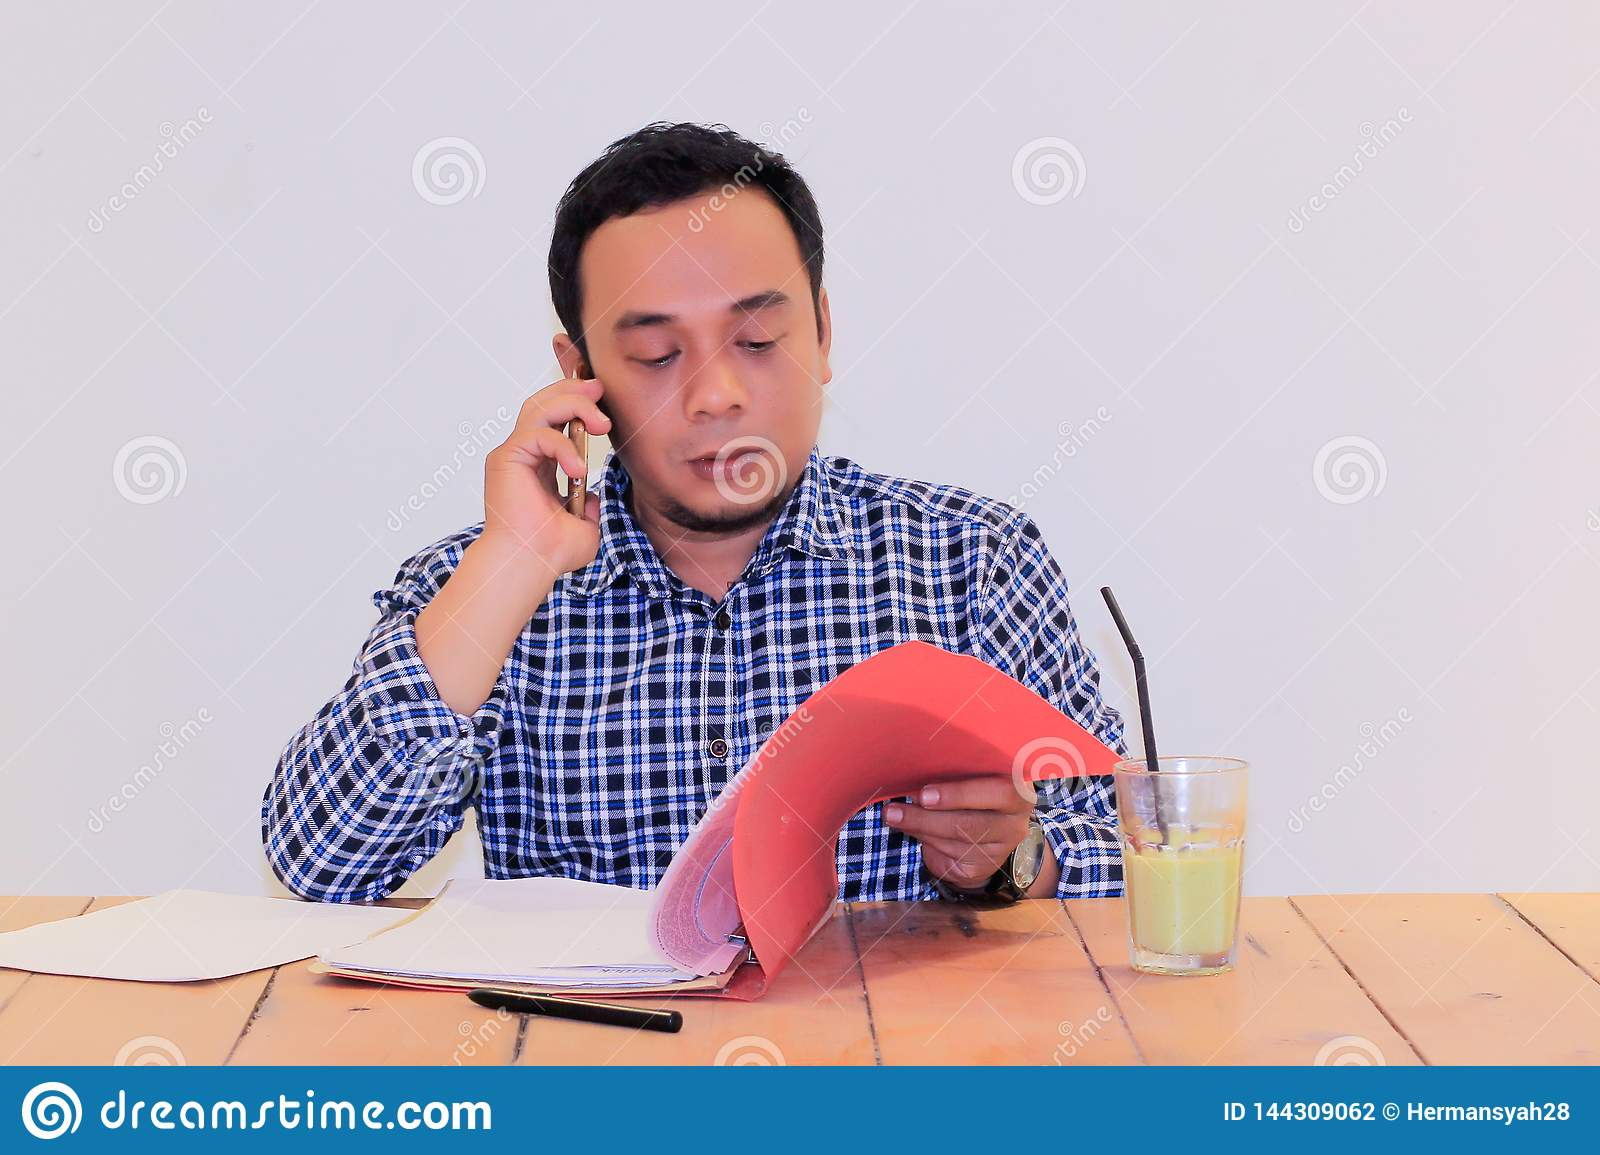phone: (558, 344, 604, 535)
talk: (476, 268, 810, 573)
